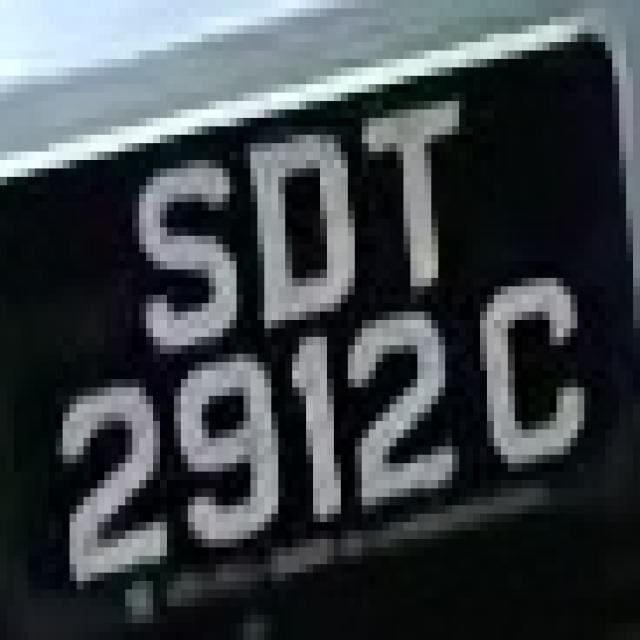1: (271, 328, 355, 572)
2: (320, 294, 480, 514), (35, 362, 174, 590)
9: (181, 345, 285, 573)
C: (487, 227, 584, 497)
D: (230, 110, 368, 353)
S: (125, 127, 237, 370)
T: (327, 68, 473, 304)
